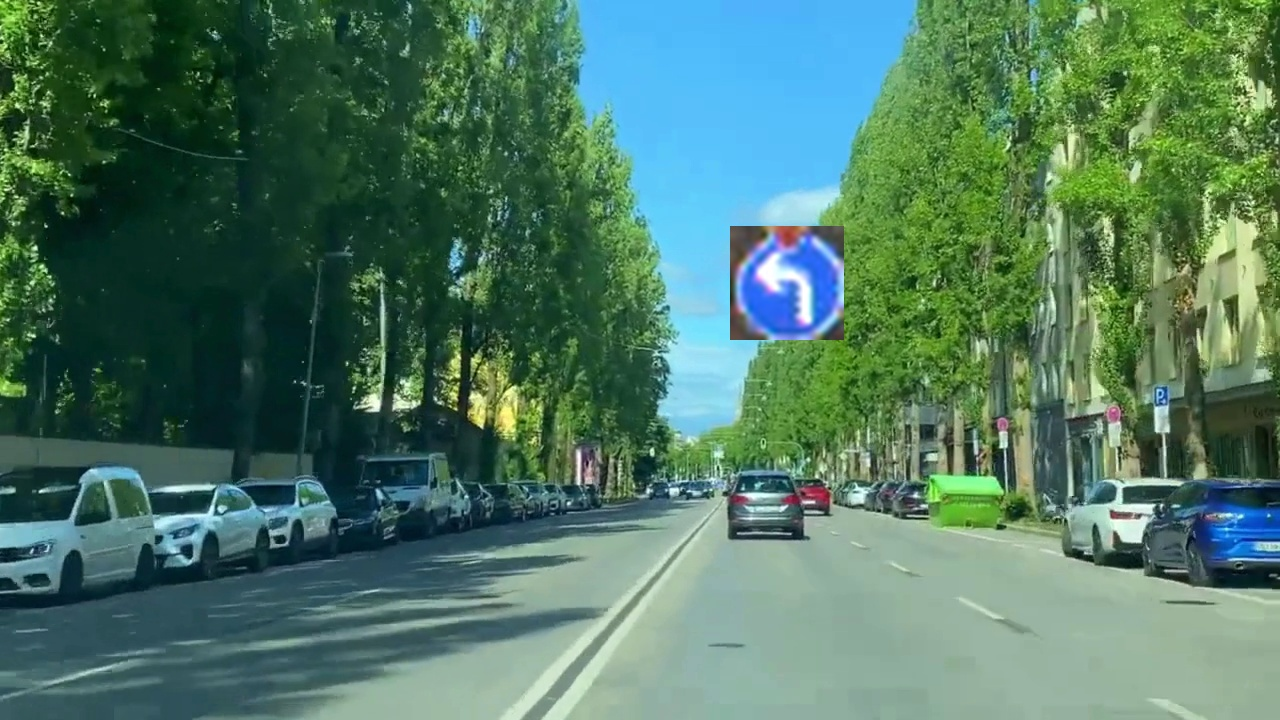Turn left: (730, 226, 844, 340)
